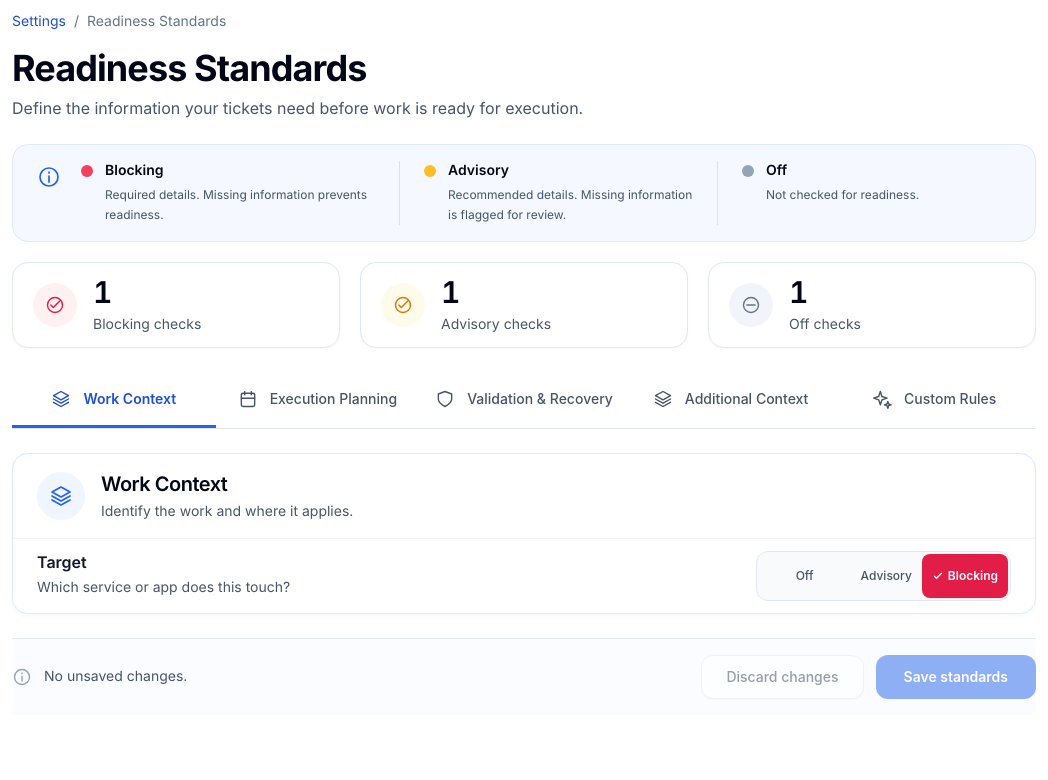
Test case: ChecklistSettingsPage › reflects a previously-saved override
The image size is (1048, 780).
Click the tab "Validation & Recovery" at (524, 400), box [419,372,629,428]
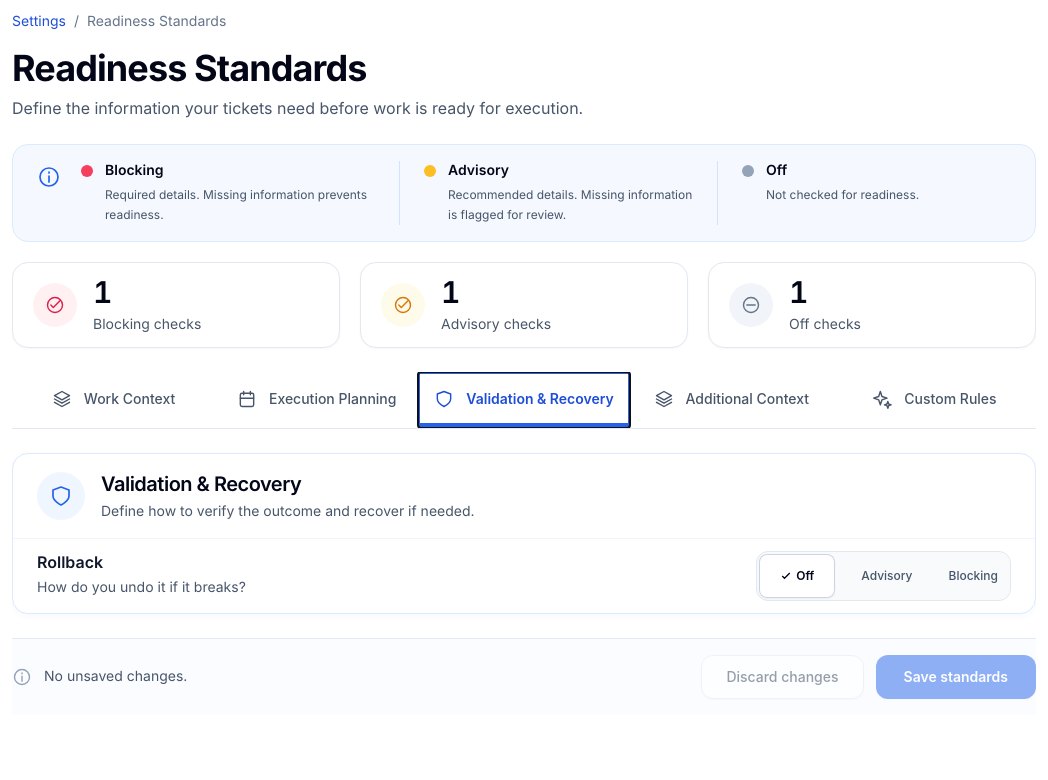
Expected: the text "Rollback" is shown, [37,552,103,572]
